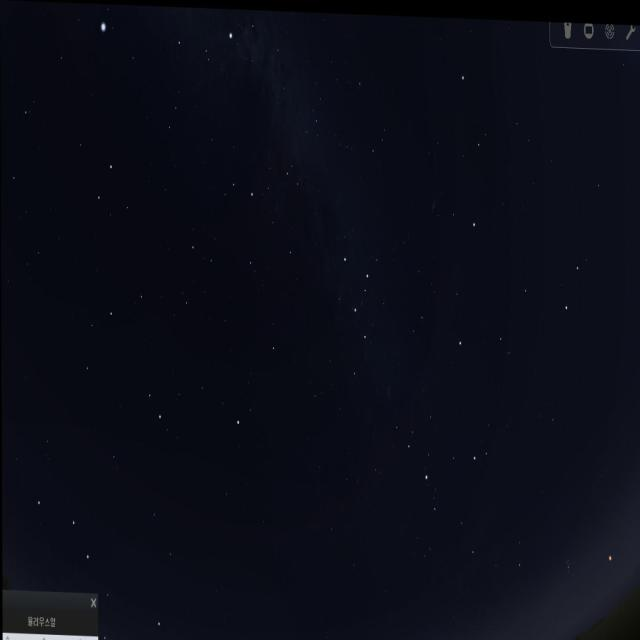cassiopeia: (330, 228, 380, 386)
